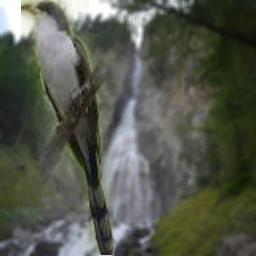Cuckoo: (21, 0, 114, 255)
